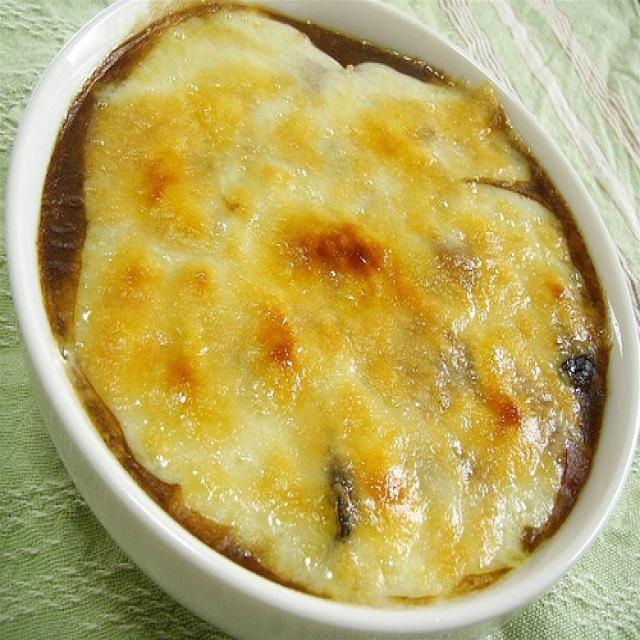米饭主食: (32, 17, 609, 609)
